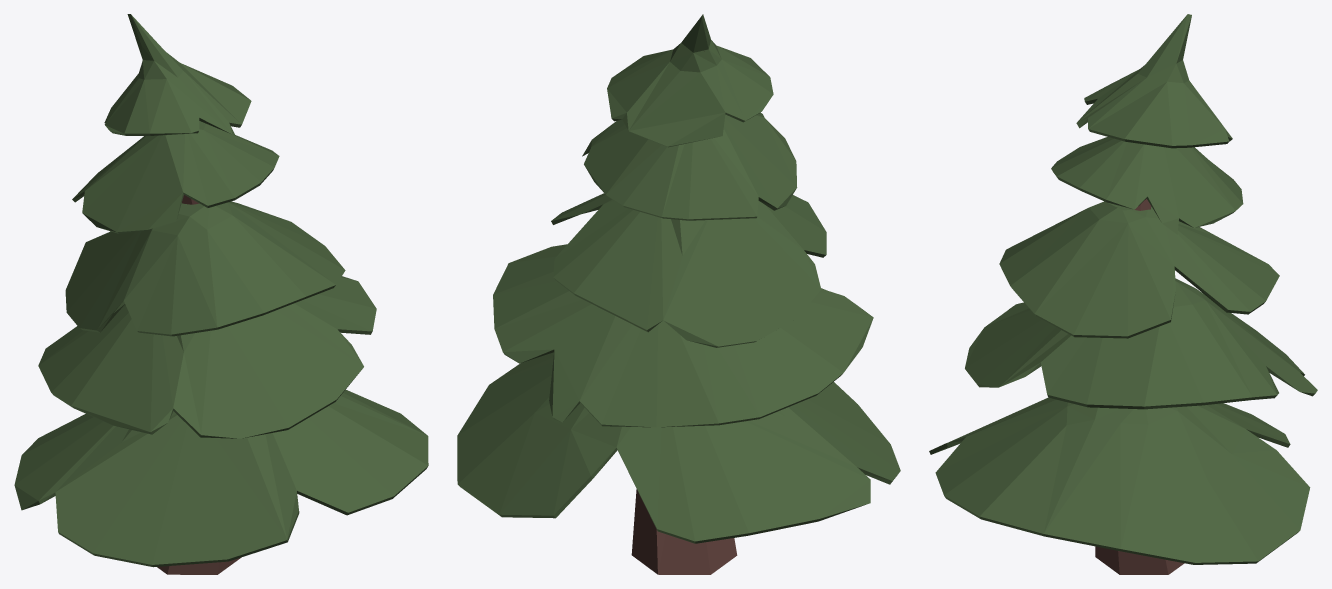
File: PineTree_1.glb
3 views of the same model, side by side, from view 1: azimuth 30°, elevation 25°; view 2: azimuth 150°, elevation 25°; view 3: azimuth 270°, elevation 25° (orthographic). The views are drawn at different scales.
Parts seen in each view (by area): view 1: PineTree_1; view 2: PineTree_1; view 3: PineTree_1.
Boxes of the visible parts, left/top/right/bottom form: PineTree_1: left=14, top=14, right=428, bottom=574; PineTree_1: left=457, top=14, right=900, bottom=574; PineTree_1: left=929, top=14, right=1317, bottom=574.
Size of the model in its own units: 1.95 by 2.7 by 1.82.
